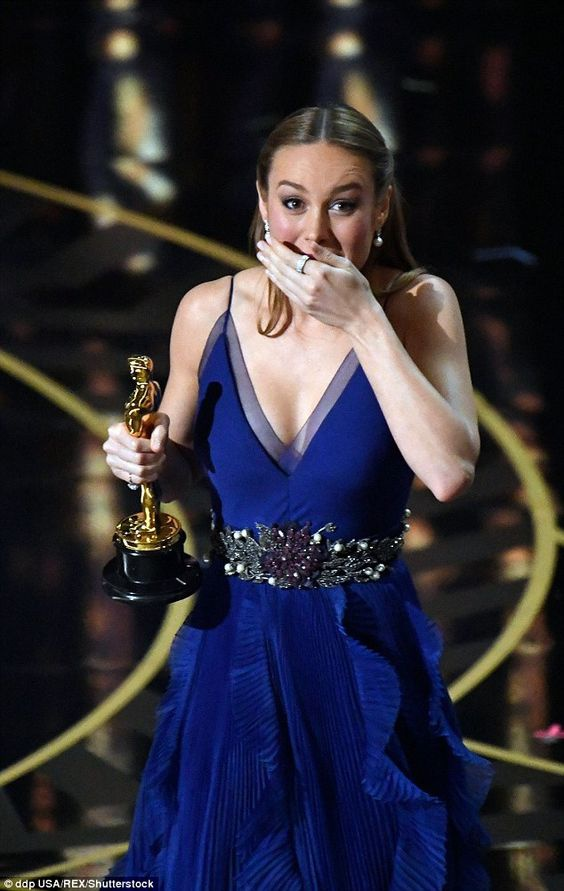hand: (261, 237, 362, 314)
